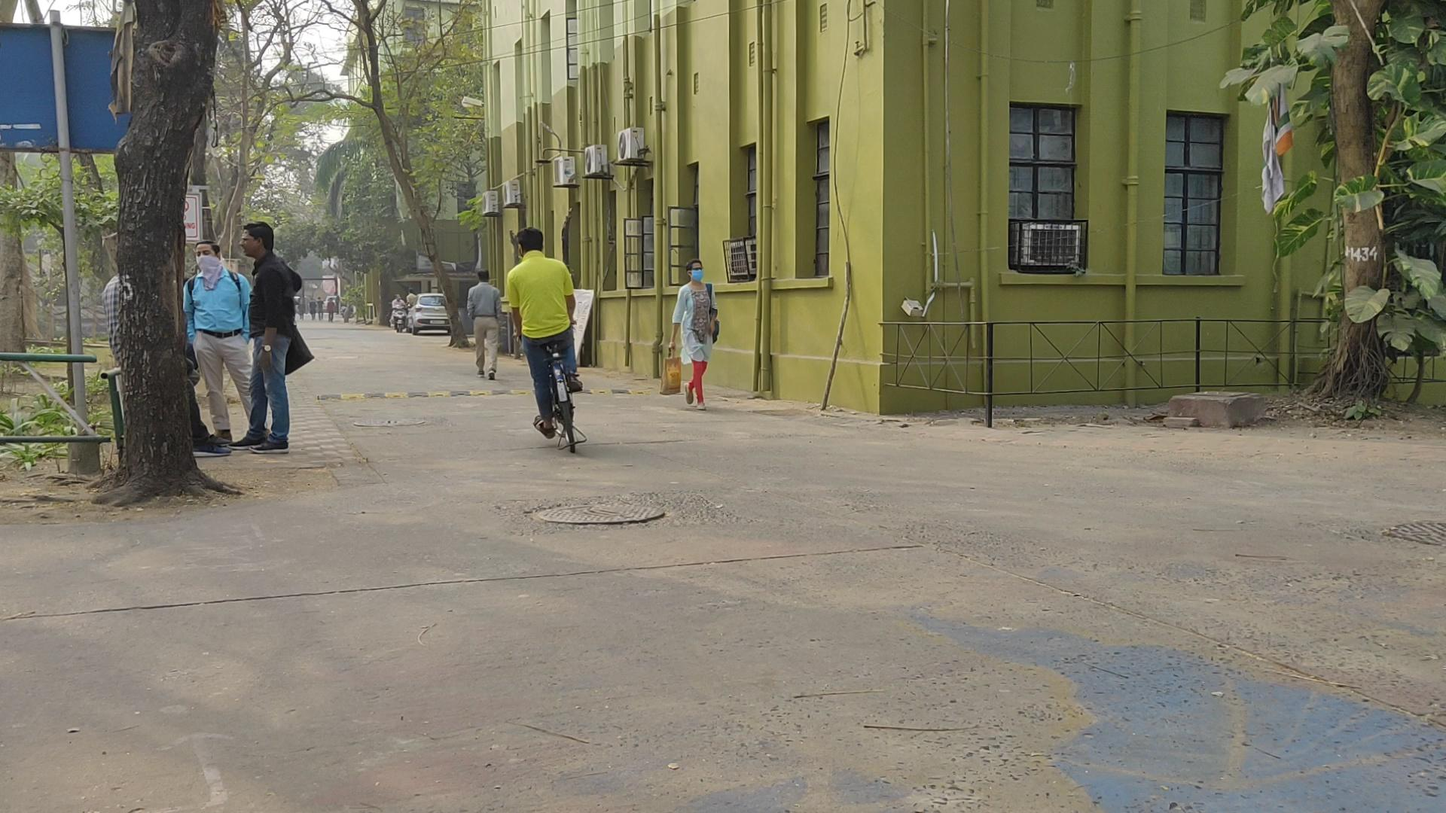bike: (504, 229, 585, 464), (389, 294, 411, 333)
car: (406, 292, 451, 335)
